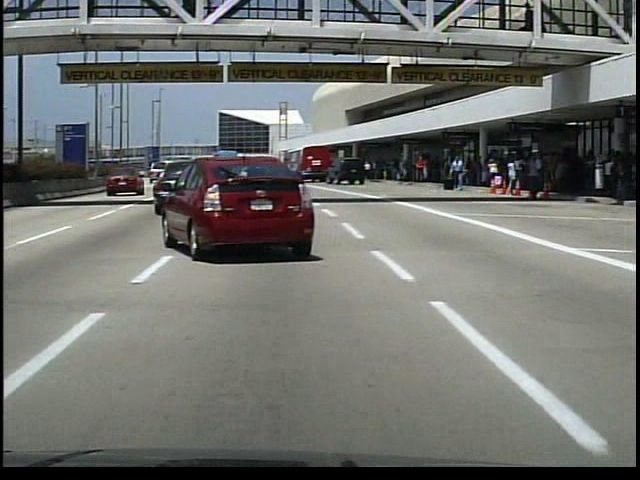person: (522, 153, 544, 205), (448, 155, 465, 194), (413, 156, 427, 185), (363, 163, 372, 181)
